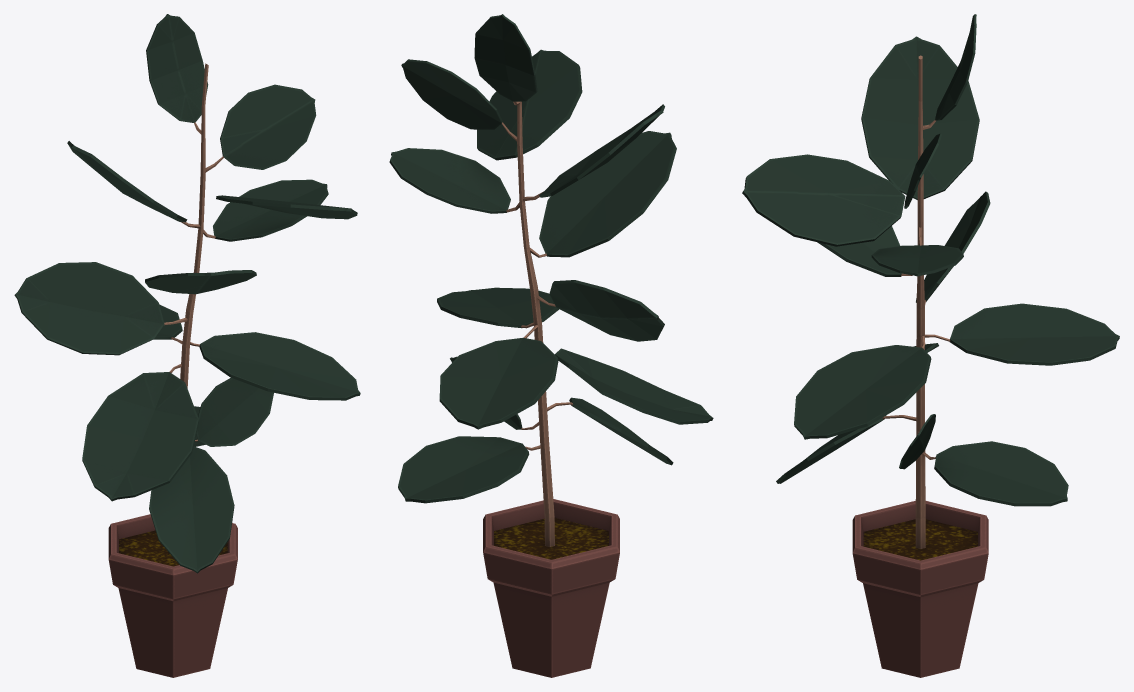
The model's file is RubberFigPottedPlant.obj.
3 renders of one model, left to right at view 1: azimuth 30°, elevation 25°; view 2: azimuth 150°, elevation 25°; view 3: azimuth 270°, elevation 25°, orthographic. The views are drawn at different scales.
Parts seen in each view (by area): view 1: RubberFigPottedPlant_mesh; view 2: RubberFigPottedPlant_mesh; view 3: RubberFigPottedPlant_mesh.
Part boxes in pixels (x1,y1,x2,y2): RubberFigPottedPlant_mesh: [14, 14, 360, 677]; RubberFigPottedPlant_mesh: [389, 14, 713, 677]; RubberFigPottedPlant_mesh: [742, 14, 1119, 677].
Size of the model in its own units: 5.21 by 10.98 by 5.74.
1 material, 1 textured.
